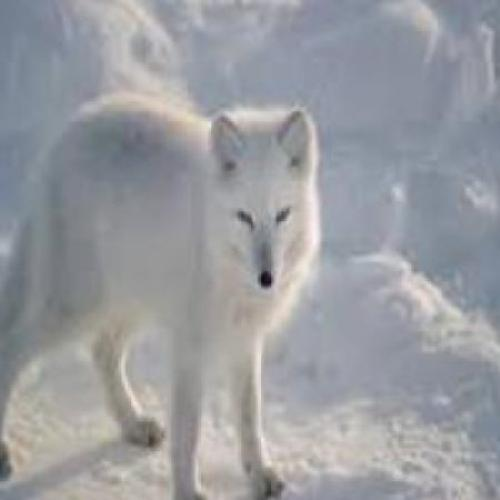arctic_fox-endangered: (0, 87, 321, 496)
